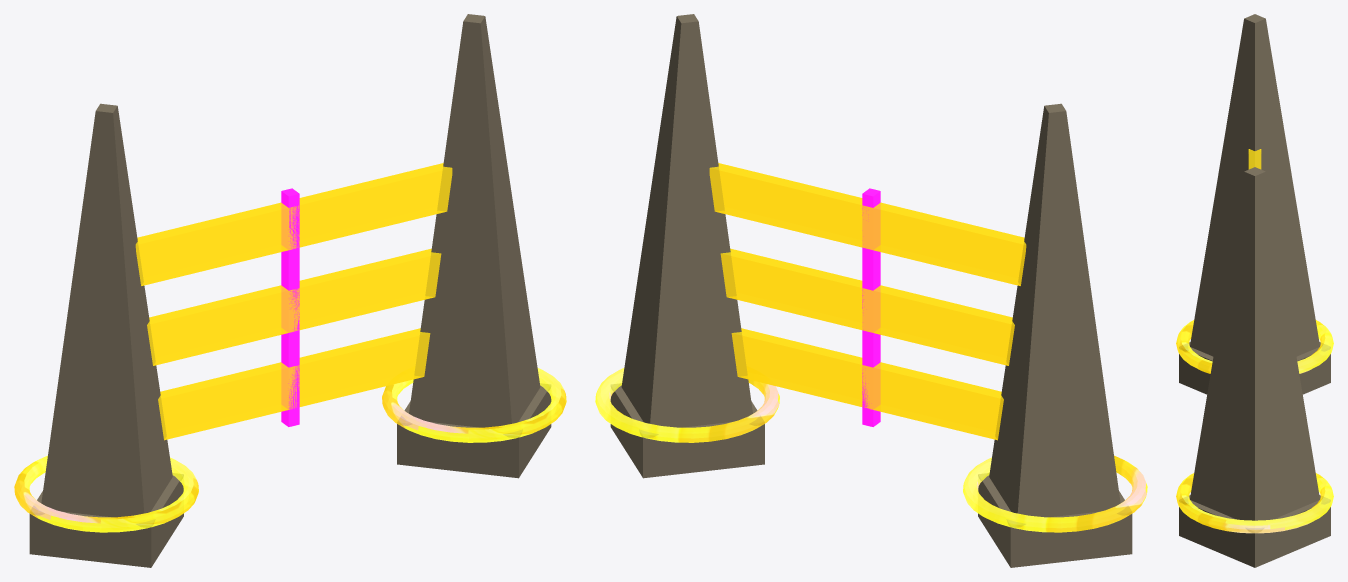
Rendered from solar_monolith_wall.glb.
3 renders of one model, left to right at view 1: azimuth 30°, elevation 25°; view 2: azimuth 150°, elevation 25°; view 3: azimuth 270°, elevation 25°, orthographic. The views are drawn at different scales.
Visible parts, largest first — view 1: SolarMonolithWall; view 2: SolarMonolithWall; view 3: SolarMonolithWall.
Boxes of the visible parts, <box> form: SolarMonolithWall: <box>14,14,566,567</box>; SolarMonolithWall: <box>595,14,1147,567</box>; SolarMonolithWall: <box>1176,14,1333,567</box>.
Size of the model in its own units: 2.87 by 2.22 by 0.872.
Materials: 3 (3 with a texture image).
